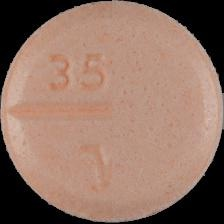53808-0662: (0, 0, 224, 224)
